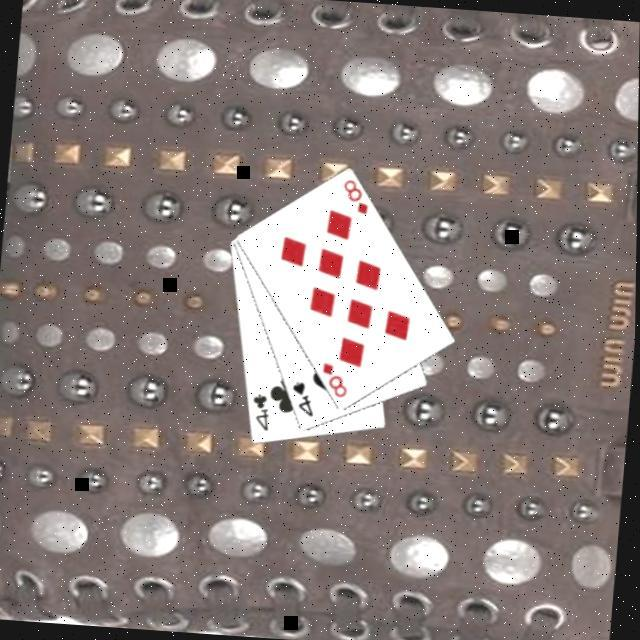4C: (248, 392, 274, 436)
4S: (288, 379, 320, 422)
8D: (318, 360, 354, 402), (338, 178, 374, 220)
